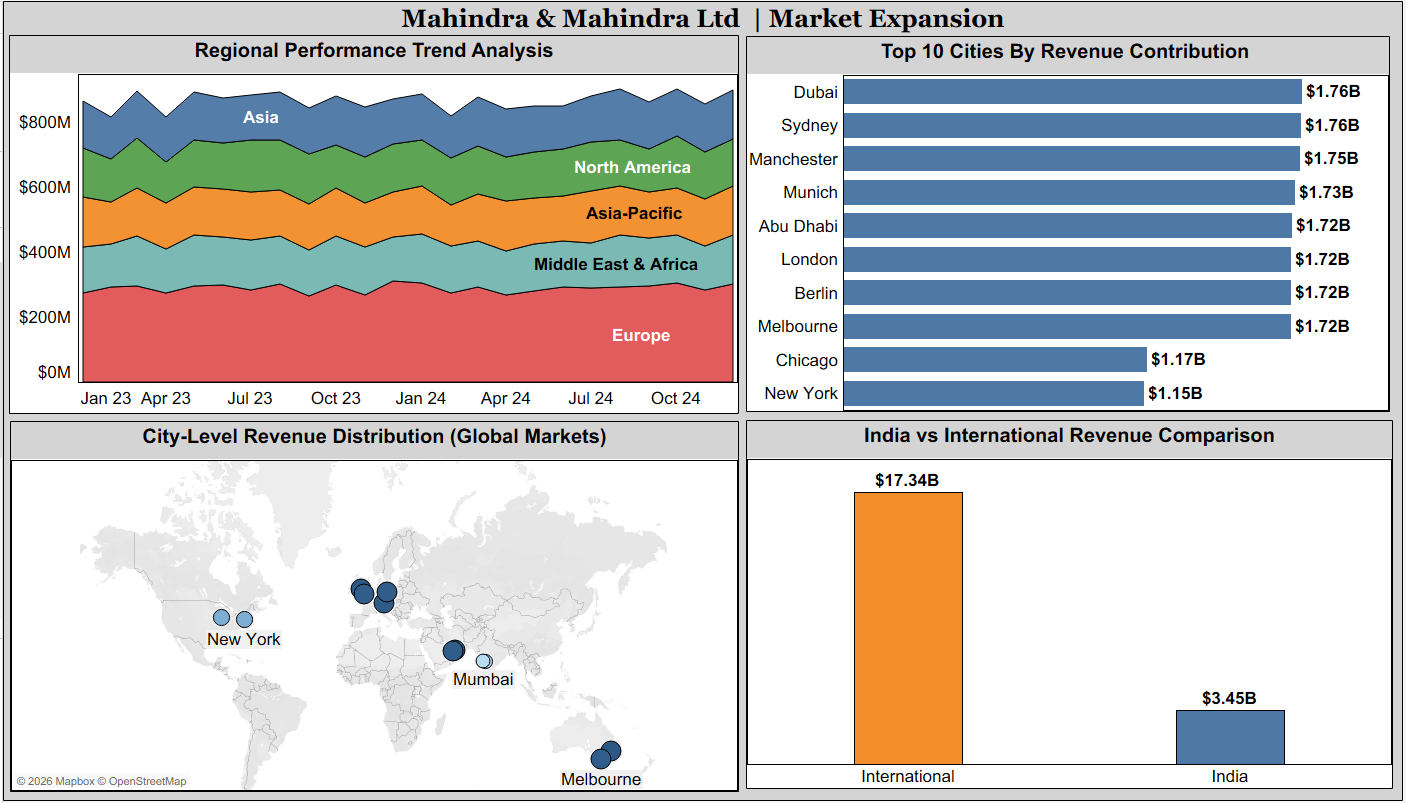

Layout of this report page (visuals, bound fields, positions):
{"tool":"tableau","page":{"name":"Market Expansion","canvas":[1400,800],"ordinal":3},"visuals":[{"type":"text","box":[0,0,1400,35]},{"type":"worksheet","title":"Regional Performance Trend Analysis","mark":"Area","rows":["Revenue_USD"],"cols":["Date"],"box":[6,34,730,379]},{"type":"worksheet","title":"Top 10 Cities By  Revenue Contribution","mark":"Automatic","rows":["City"],"cols":["Revenue_USD"],"box":[743,35,644,376]},{"type":"worksheet","title":"India vs International Revenue Comparison","mark":"Bar","rows":["Revenue_USD"],"cols":["Calculation_1087473373184000"],"box":[743,419,647,369]},{"type":"worksheet","title":"City-Level Revenue Distribution (Global Markets)","mark":"Circle","box":[7,420,729,371]}]}

Visuals, with their boxes in screenshot pixels (x1, y1, x2, y2), scaled from the page's 1400x800 canvas onto the 1406x803 screenshot:
text: region(0, 0, 1405, 35)
"Regional Performance Trend Analysis" worksheet (Area marks): region(6, 34, 739, 415)
"Top 10 Cities By  Revenue Contribution" worksheet: region(746, 35, 1393, 413)
"India vs International Revenue Comparison" worksheet (Bar marks): region(746, 421, 1396, 791)
"City-Level Revenue Distribution (Global Markets)" worksheet (Circle marks): region(7, 422, 739, 794)
